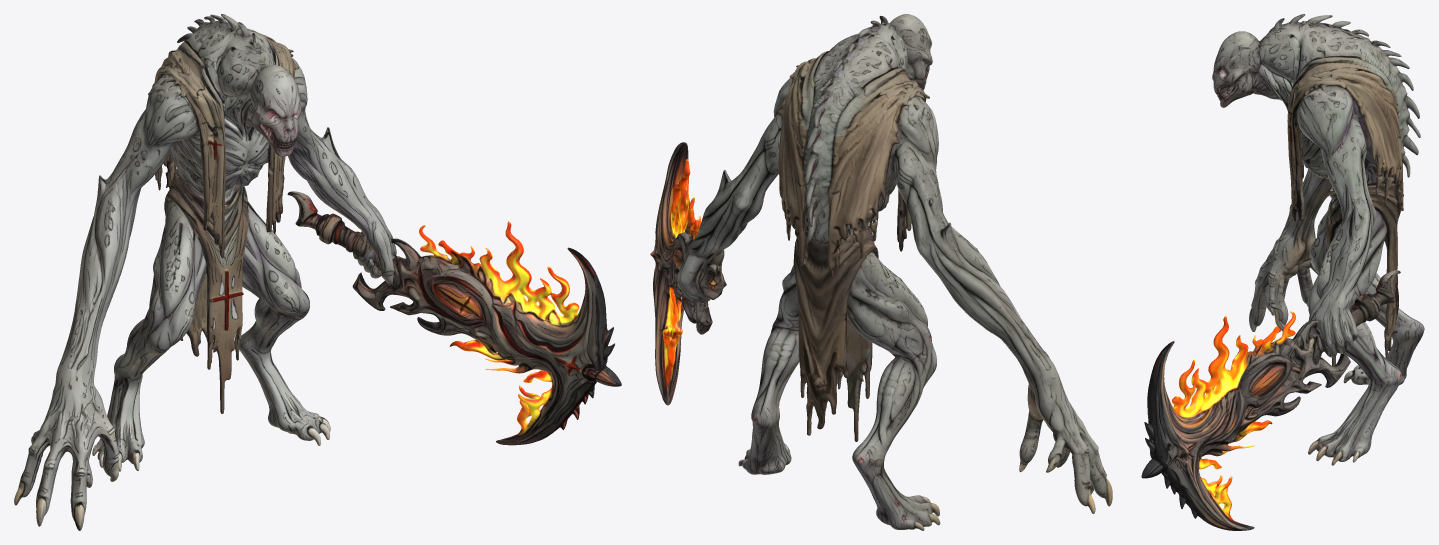
File: throg.glb
3 views of the same model, side by side, from view 1: azimuth 30°, elevation 25°; view 2: azimuth 150°, elevation 25°; view 3: azimuth 270°, elevation 25° (orthographic). The views are drawn at different scales.
Bounding box in the file's own units: 0.1777 × 0.15 × 0.0932.
1 material, 1 textured.
